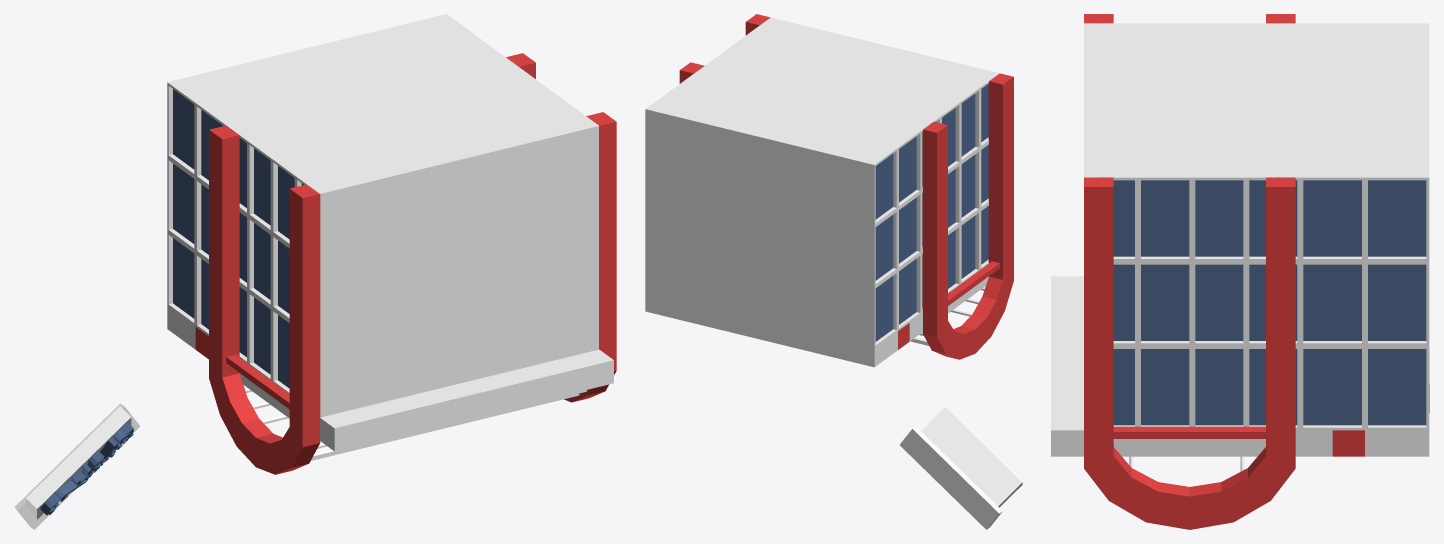
The model's file is calisanGenclikMerkezi.glb.
3 views of the same model, side by side, from view 1: azimuth 30°, elevation 25°; view 2: azimuth 150°, elevation 25°; view 3: azimuth 270°, elevation 25° (orthographic). The views are drawn at different scales.
Visible parts, largest first — view 1: shadeWhite, shadeRed, shadeBlue; view 2: shadeWhite, shadeRed, shadeBlue; view 3: shadeWhite, shadeBlue, shadeRed.
Boxes of the visible parts, <box> form: shadeWhite: <box>14,14,613,529</box>; shadeRed: <box>195,53,616,474</box>; shadeBlue: <box>40,89,303,515</box>; shadeWhite: <box>645,17,1022,529</box>; shadeRed: <box>679,14,1013,359</box>; shadeBlue: <box>875,84,988,341</box>; shadeWhite: <box>1051,23,1429,471</box>; shadeBlue: <box>1113,180,1426,425</box>; shadeRed: <box>1084,14,1364,529</box>.
Bounding box in the file's own units: 6.94 × 5.97 × 4.41.
